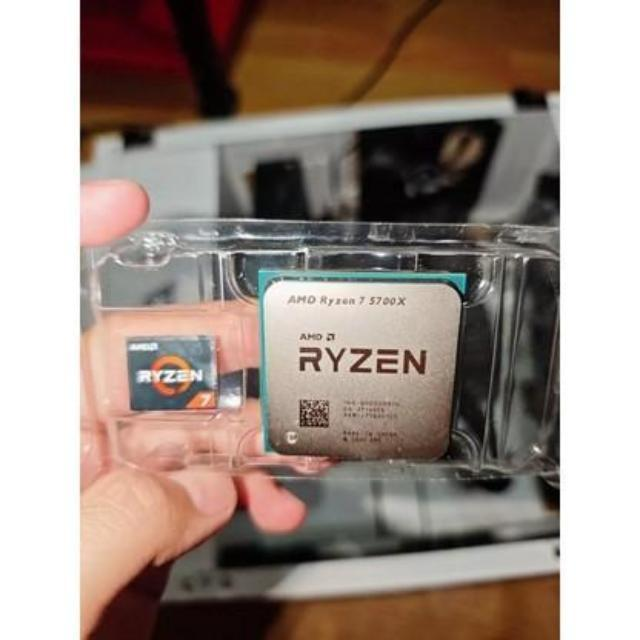CPU: (262, 271, 464, 469)
